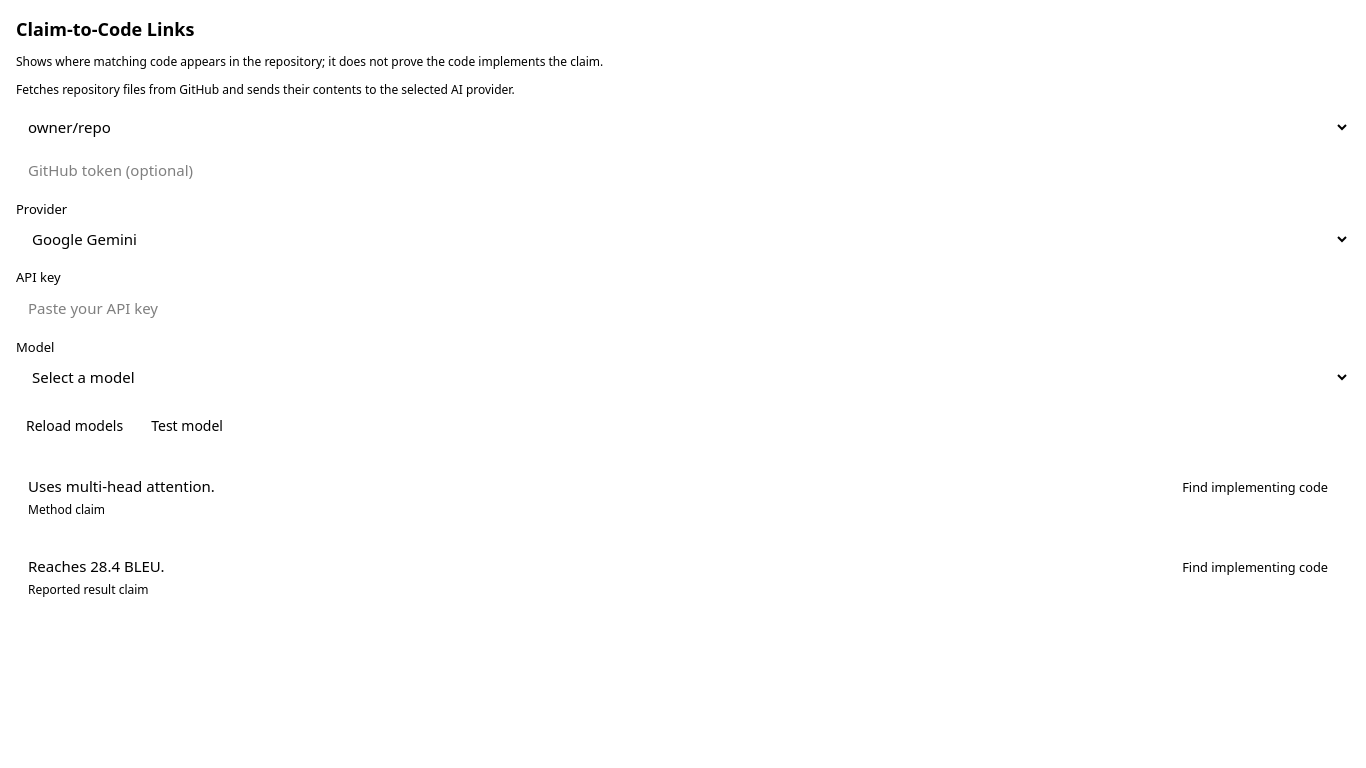
Test: CodeLinksPanel › shows a specific message on 422 claim_not_linkable_to_code
Type "test-key" into the password field labelled "API key".
click(683, 308); type("test-key")  # box [16,290,1350,326]
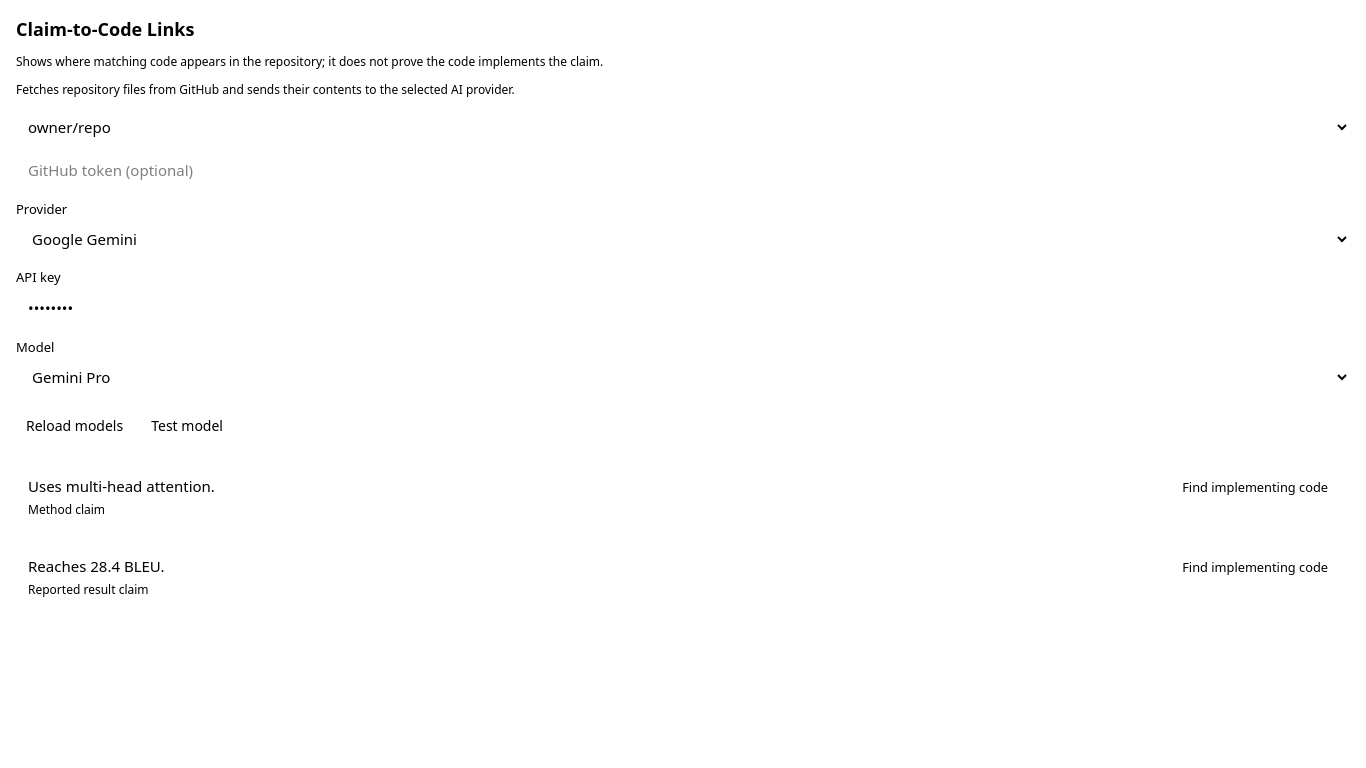
Click the button "Find implementing code" in the row of "Uses multi-head attention.".
click(1255, 488)  # box [1172,474,1338,502]
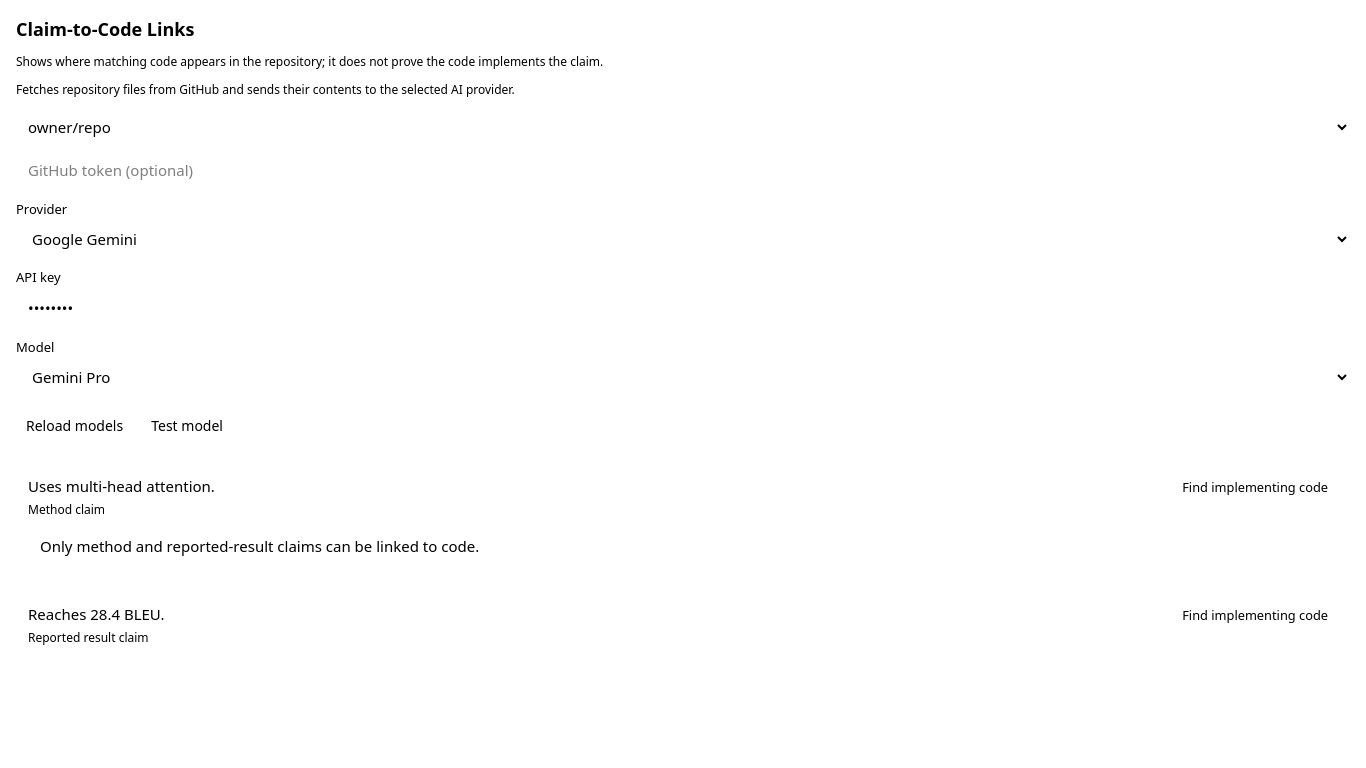
Check: the message reads "Only method and reported-result claims can be linked to code.", box [40,536,479,556]
